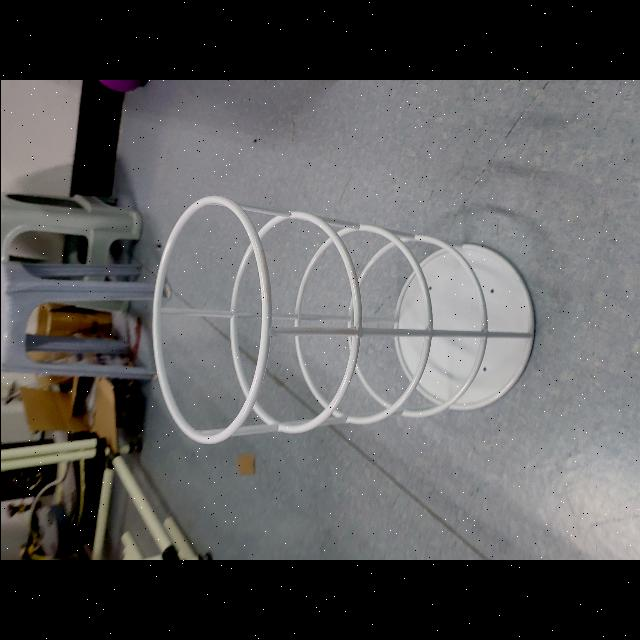S: (146, 195, 540, 451)
